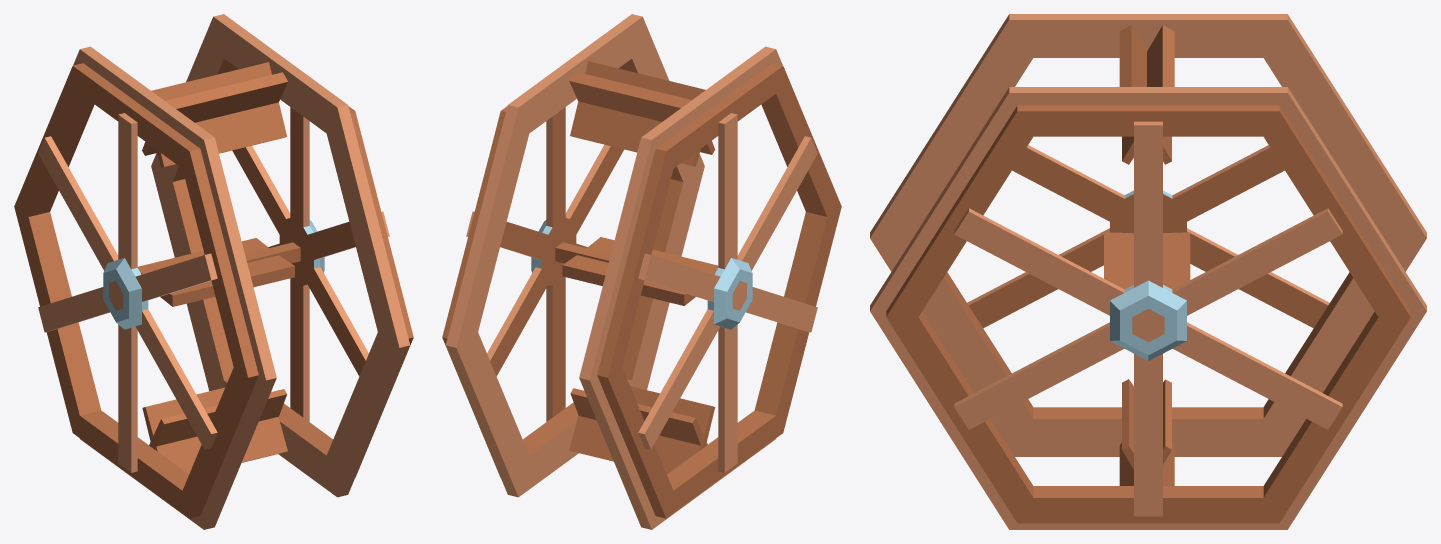
The model's file is watermillWide.glb.
3 renders of one model, left to right at view 1: azimuth 30°, elevation 25°; view 2: azimuth 150°, elevation 25°; view 3: azimuth 270°, elevation 25°, orthographic. The views are drawn at different scales.
Visible parts, largest first — view 1: watermillWide, watermillWide.004, watermillWide.006, watermillWide.005, watermillWide.001, watermillWide.002, watermillWide.003; view 2: watermillWide, watermillWide.005, watermillWide.001, watermillWide.004, watermillWide.006, watermillWide.003, watermillWide.002; view 3: watermillWide, watermillWide.004, watermillWide.005, watermillWide.003, watermillWide.002, watermillWide.001, watermillWide.006.
Part boxes in pixels (x1=…): watermillWide: x1=14, y1=14, x2=413, y2=529; watermillWide.004: x1=151, y1=62, x2=287, y2=167; watermillWide.006: x1=142, y1=387, x2=287, y2=474; watermillWide.005: x1=142, y1=72, x2=287, y2=155; watermillWide.001: x1=149, y1=389, x2=287, y2=449; watermillWide.002: x1=137, y1=238, x2=294, y2=304; watermillWide.003: x1=160, y1=255, x2=294, y2=306; watermillWide: x1=442, y1=14, x2=841, y2=529; watermillWide.005: x1=570, y1=61, x2=705, y2=166; watermillWide.001: x1=569, y1=386, x2=715, y2=474; watermillWide.004: x1=569, y1=71, x2=715, y2=154; watermillWide.006: x1=570, y1=388, x2=707, y2=445; watermillWide.003: x1=562, y1=237, x2=718, y2=303; watermillWide.002: x1=562, y1=255, x2=695, y2=305; watermillWide: x1=870, y1=14, x2=1426, y2=529; watermillWide.004: x1=1122, y1=25, x2=1174, y2=164; watermillWide.005: x1=1119, y1=25, x2=1171, y2=164; watermillWide.003: x1=1104, y1=232, x2=1133, y2=289; watermillWide.002: x1=1163, y1=232, x2=1190, y2=289; watermillWide.001: x1=1122, y1=379, x2=1174, y2=485; watermillWide.006: x1=1119, y1=379, x2=1171, y2=485.
Size of the model in its own units: 2.73 by 5.2 by 6.
